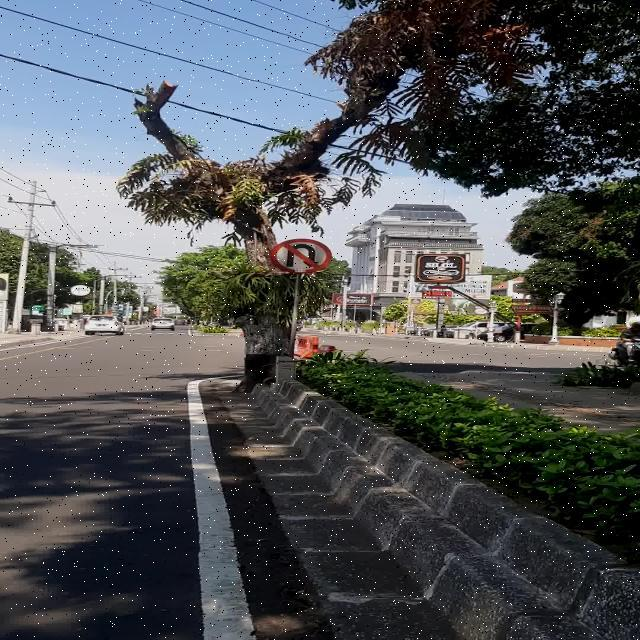Dilarang Putar Balik: (269, 238, 332, 273)
